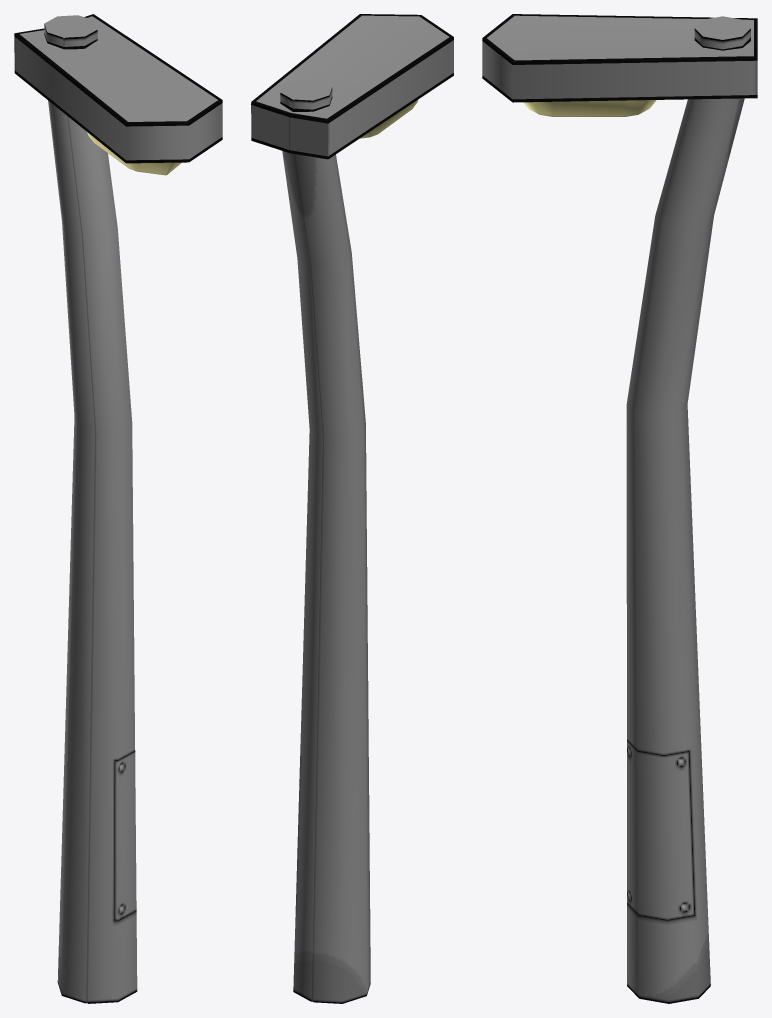
Rendered from Prop_Farola1.fbx.
The picture shows the model from 3 angles, left to right: view 1: azimuth 30°, elevation 25°; view 2: azimuth 150°, elevation 25°; view 3: azimuth 270°, elevation 25°; orthographic projection. The views are drawn at different scales.
Visible parts, largest first — view 1: Farola1; view 2: Farola1; view 3: Farola1.
Part boxes in pixels (box(x1,y1,x2,y2)): Farola1: box(14, 14, 222, 1003); Farola1: box(251, 14, 453, 1003); Farola1: box(482, 14, 757, 1003).
Bounding box in the file's own units: 0.434 × 4.05 × 1.05.
Materials: 1 (1 with a texture image).
